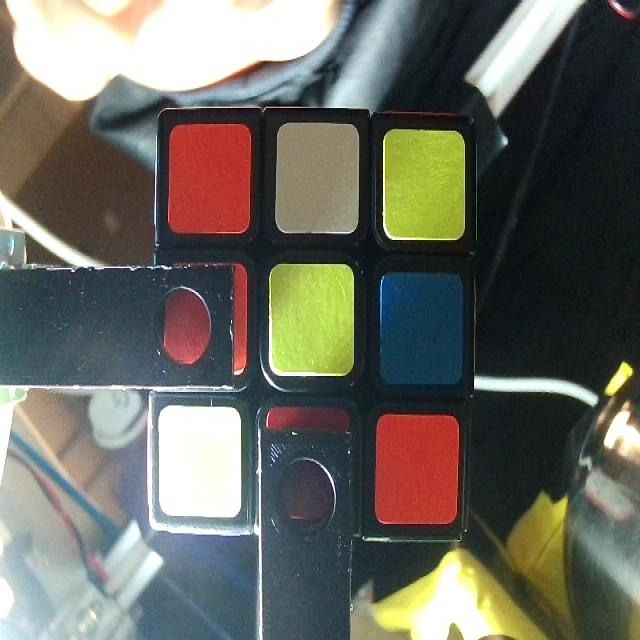b: (380, 274, 458, 384)
o: (166, 261, 247, 375), (167, 123, 249, 234), (377, 416, 455, 521)
r: (265, 409, 350, 524)
w: (159, 404, 239, 516), (280, 126, 358, 232)
y: (269, 262, 355, 378), (383, 131, 466, 241)
